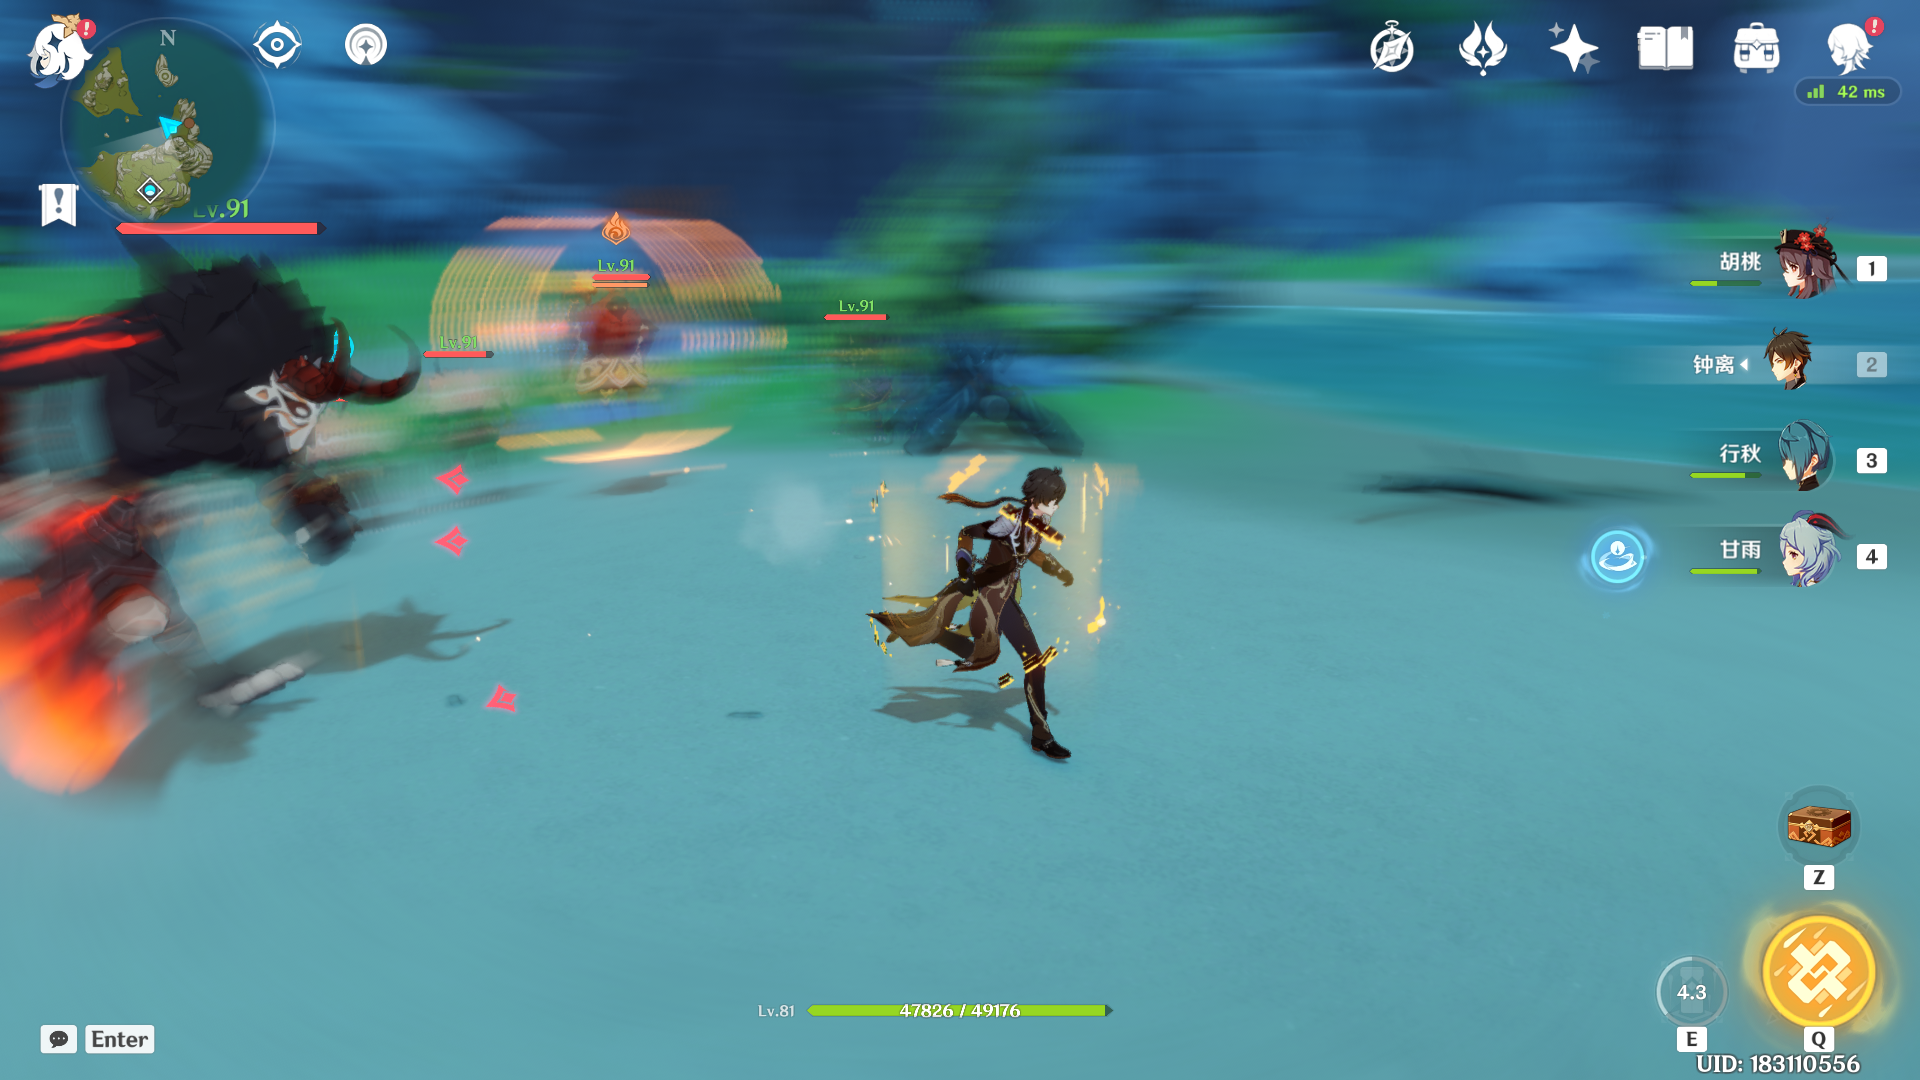bighili: (1, 248, 458, 820)
caster: (527, 245, 698, 434)
character: (899, 430, 1125, 791)
